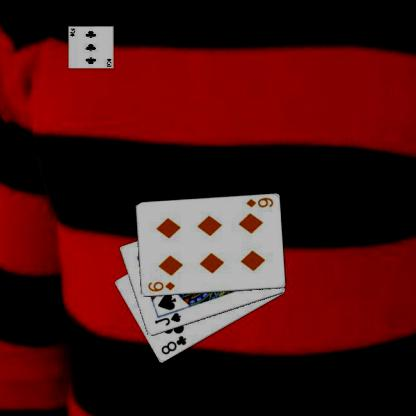6D: (145, 279, 176, 293), (243, 195, 274, 209)
8C: (158, 333, 188, 356)
JS: (152, 310, 182, 327)
